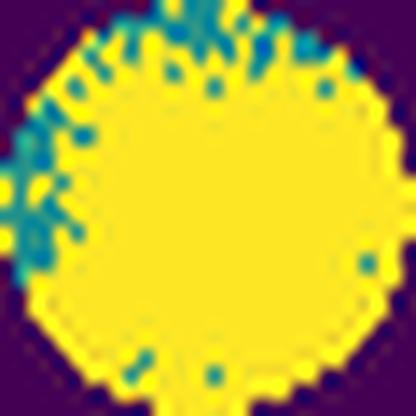Near-full: (52, 55, 416, 416)
